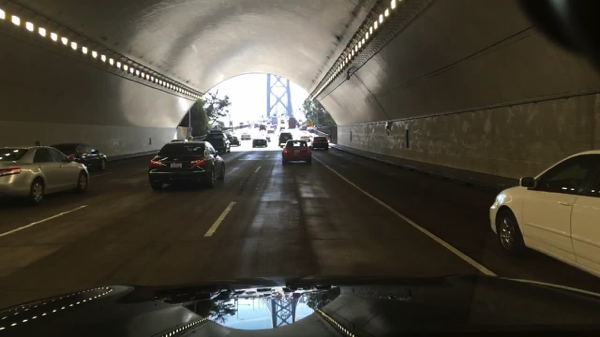car: (488, 149, 599, 278), (0, 145, 90, 206), (147, 139, 226, 190), (50, 142, 108, 174), (281, 140, 313, 166), (202, 132, 231, 153), (311, 136, 329, 151), (278, 132, 292, 145), (252, 136, 268, 147), (228, 136, 241, 147), (300, 133, 310, 143), (240, 132, 251, 141), (258, 124, 266, 132), (267, 128, 275, 134), (266, 136, 272, 142), (301, 125, 307, 131), (313, 124, 322, 128), (279, 126, 285, 131), (307, 126, 312, 132), (309, 129, 315, 134), (270, 126, 275, 131), (280, 119, 285, 124), (225, 133, 231, 137), (254, 123, 258, 128), (272, 124, 277, 128), (280, 130, 288, 132), (266, 122, 270, 125)
truck: (287, 117, 297, 128), (271, 117, 278, 126)
